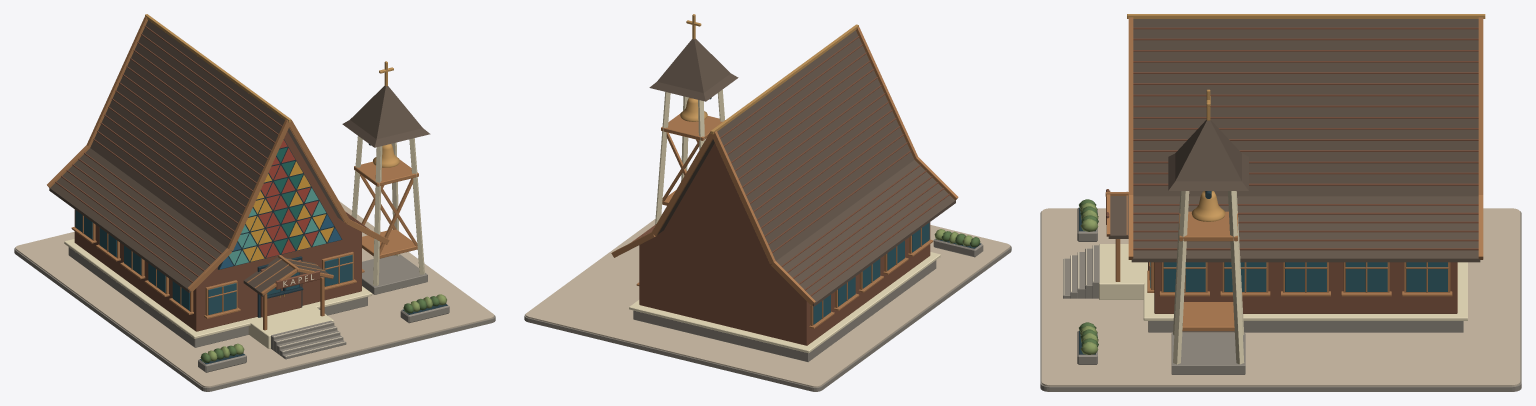
The picture shows the model from 3 angles, left to right: view 1: azimuth 30°, elevation 25°; view 2: azimuth 150°, elevation 25°; view 3: azimuth 270°, elevation 25°; orthographic projection. The views are drawn at different scales.
Parts seen in each view (by area): view 1: Folded Shingle Roof, Porch and Garden, Timber Nave, Bell Frame, Sunrise Glazing; view 2: Folded Shingle Roof, Timber Nave, Porch and Garden, Bell Frame; view 3: Folded Shingle Roof, Porch and Garden, Timber Nave, Bell Frame.
Boxes of the visible parts, left/top/right/bottom form: Folded Shingle Roof: left=47, top=14, right=389, bottom=292; Porch and Garden: left=14, top=201, right=495, bottom=391; Timber Nave: left=64, top=131, right=372, bottom=347; Bell Frame: left=342, top=61, right=430, bottom=294; Sunrise Glazing: left=217, top=139, right=342, bottom=269; Folded Shingle Roof: left=611, top=24, right=958, bottom=306; Timber Nave: left=629, top=143, right=940, bottom=361; Porch and Garden: left=524, top=214, right=1011, bottom=391; Bell Frame: left=649, top=14, right=738, bottom=224; Folded Shingle Roof: left=1127, top=14, right=1485, bottom=262; Porch and Garden: left=1040, top=190, right=1521, bottom=391; Timber Nave: left=1106, top=189, right=1467, bottom=332; Bell Frame: left=1168, top=89, right=1248, bottom=374.
Bounding box in the file's own units: 18.2 × 13.12 × 20.8.
